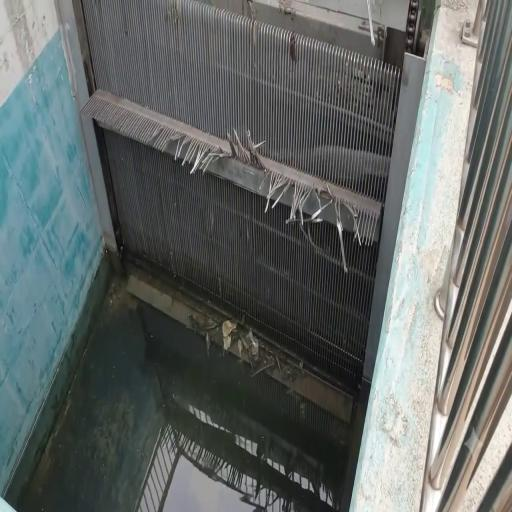rake: (76, 0, 427, 353)
rake_broken: (325, 170, 365, 278), (287, 163, 327, 228), (252, 154, 296, 212), (190, 131, 239, 183), (163, 120, 205, 177), (225, 117, 267, 174), (142, 114, 175, 159)
